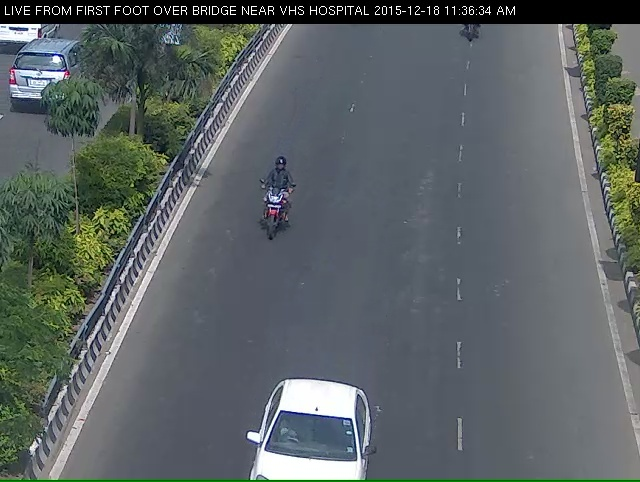Car: (242, 421, 375, 481)
Person: (241, 168, 295, 265)
